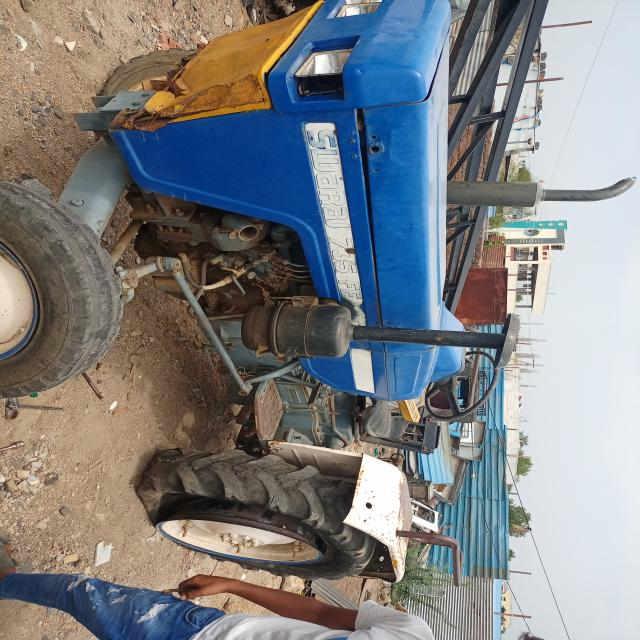Tractor: (6, 9, 637, 560)
